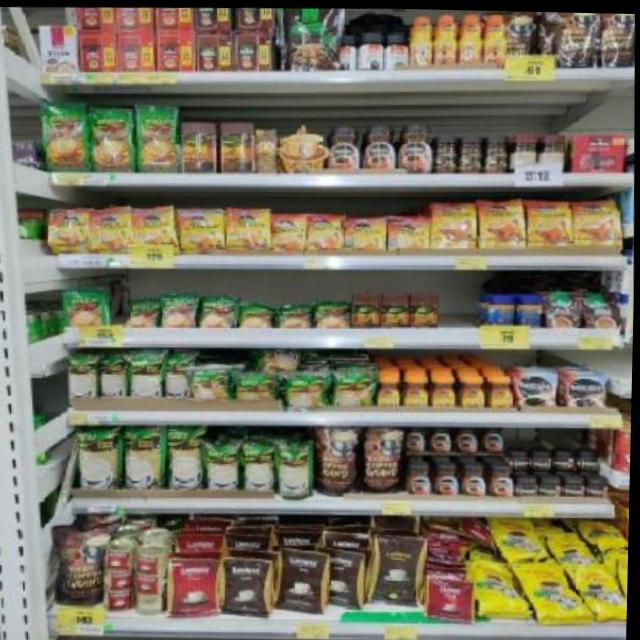Coffee: (575, 198, 622, 245), (479, 198, 525, 245), (527, 197, 573, 243), (433, 200, 477, 246), (397, 121, 433, 173), (90, 207, 132, 249), (49, 209, 90, 251), (226, 207, 270, 246), (180, 207, 223, 246), (565, 369, 606, 404), (327, 124, 360, 167), (134, 208, 173, 244), (344, 214, 386, 247), (364, 122, 395, 166), (388, 214, 430, 246), (517, 369, 555, 403), (272, 212, 307, 247), (309, 211, 342, 247), (459, 12, 481, 60), (433, 12, 454, 60), (484, 12, 505, 59), (411, 12, 430, 61), (403, 373, 429, 403), (462, 372, 486, 403), (378, 373, 401, 403), (489, 375, 513, 403), (435, 463, 459, 491), (463, 464, 486, 493), (408, 462, 431, 490), (432, 375, 454, 403), (491, 466, 514, 492), (457, 425, 477, 449), (431, 425, 450, 449), (407, 424, 425, 449), (484, 426, 503, 449), (531, 449, 551, 467), (563, 475, 585, 491), (518, 476, 540, 492), (587, 477, 609, 493), (577, 452, 601, 466), (553, 450, 573, 465), (512, 450, 529, 466), (541, 477, 559, 492)
